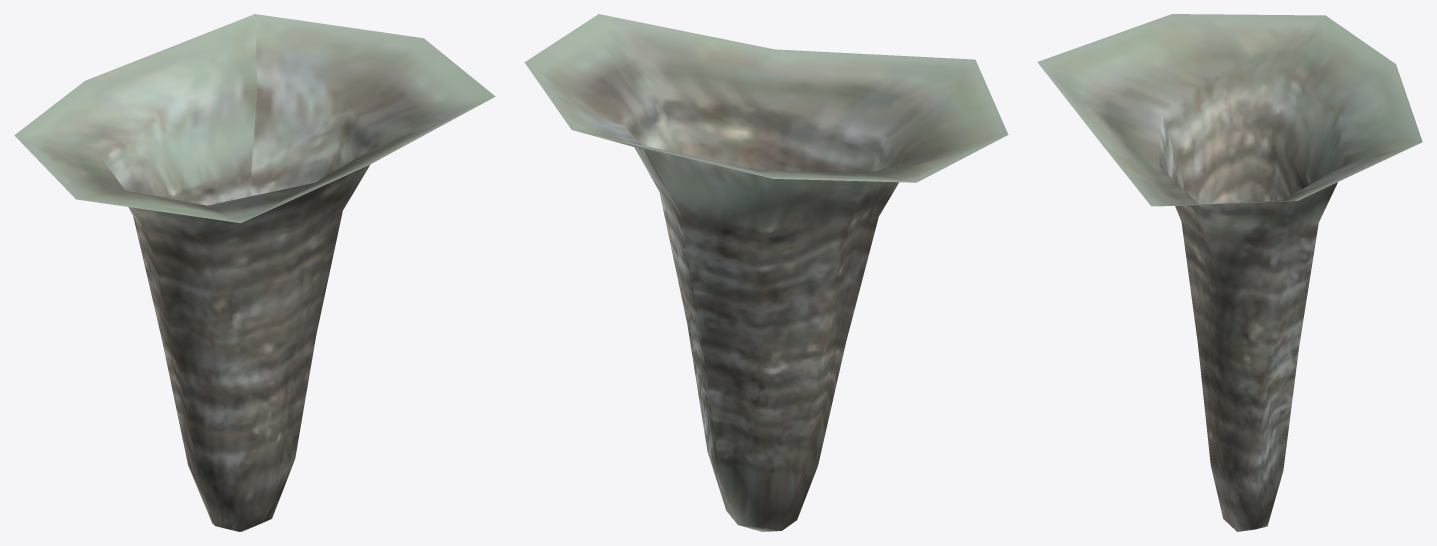
Rendered from TROLLHOLE02_PS-MAINSTALAG88.fbx.
3 renders of one model, left to right at view 1: azimuth 30°, elevation 25°; view 2: azimuth 150°, elevation 25°; view 3: azimuth 270°, elevation 25°, orthographic. The views are drawn at different scales.
Parts seen in each view (by area): view 1: TROLLHOLE02_PS-MAINSTALAG88; view 2: TROLLHOLE02_PS-MAINSTALAG88; view 3: TROLLHOLE02_PS-MAINSTALAG88.
Boxes of the visible parts, left/top/right/bottom form: TROLLHOLE02_PS-MAINSTALAG88: left=14, top=14, right=495, bottom=531; TROLLHOLE02_PS-MAINSTALAG88: left=524, top=14, right=1008, bottom=531; TROLLHOLE02_PS-MAINSTALAG88: left=1037, top=14, right=1422, bottom=531.
Bounding box in the file's own units: 22103 × 22198 × 17727.
Materials: 1 (1 with a texture image).
